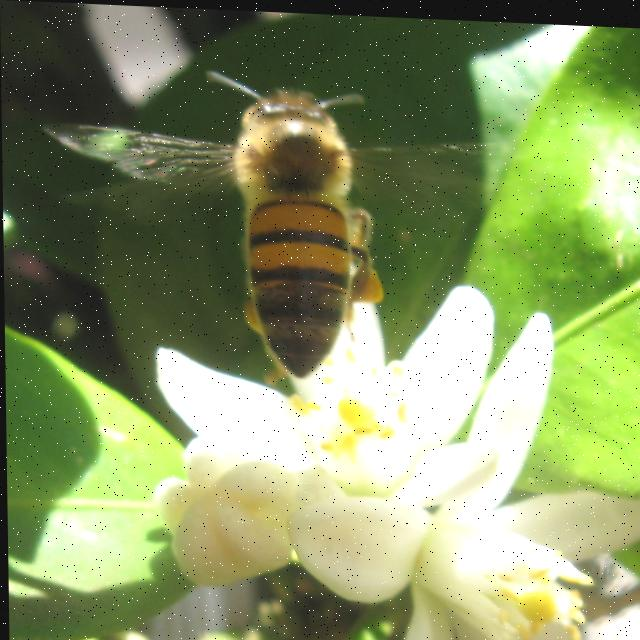Apis-mellifera-scutellata: (123, 41, 441, 413)
